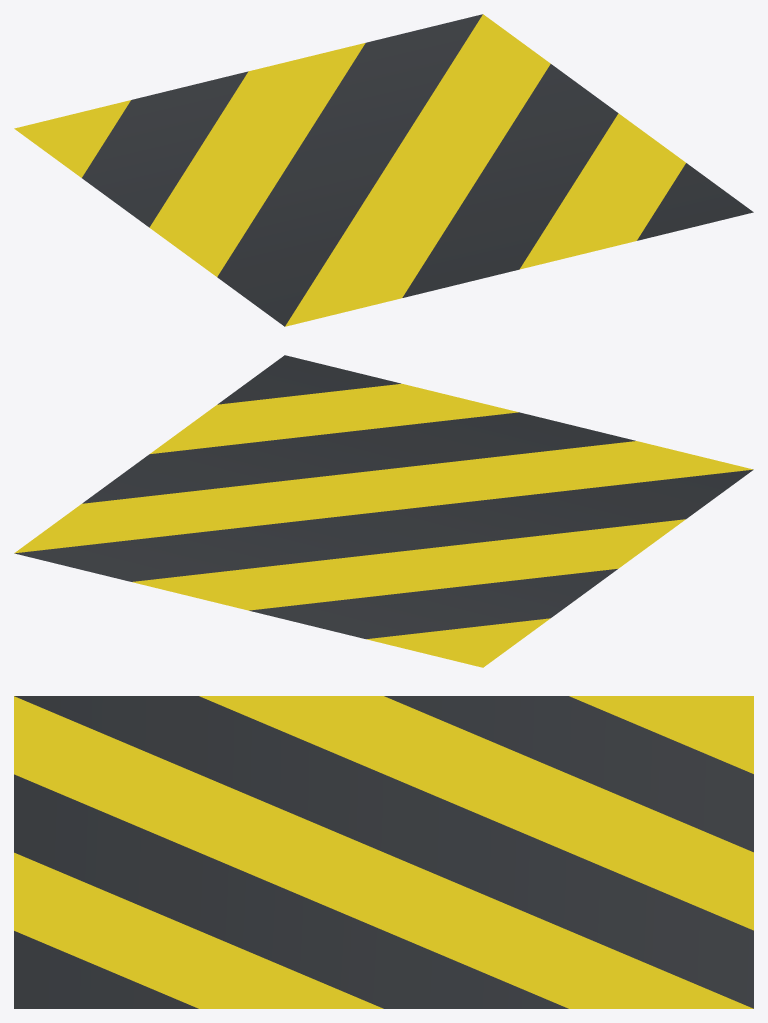
Rendered from hazard_plane.fbx.
3 renders of one model, top to bottom at view 1: azimuth 30°, elevation 25°; view 2: azimuth 150°, elevation 25°; view 3: azimuth 270°, elevation 25°, orthographic. The views are drawn at different scales.
Parts seen in each view (by area): view 1: hazard_plane; view 2: hazard_plane; view 3: hazard_plane.
Part boxes in pixels (left/top/right/bottom): hazard_plane: left=14, top=14, right=753, bottom=326; hazard_plane: left=14, top=355, right=753, bottom=667; hazard_plane: left=14, top=696, right=753, bottom=1008.
Bounding box in the file's own units: 200 × 0 × 200.
